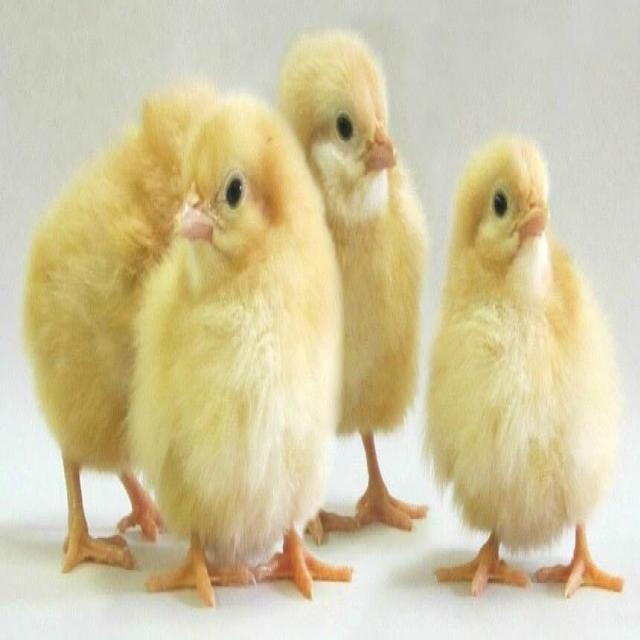poussin: (31, 74, 228, 587), (427, 125, 631, 619), (146, 98, 344, 599), (278, 28, 435, 538)
